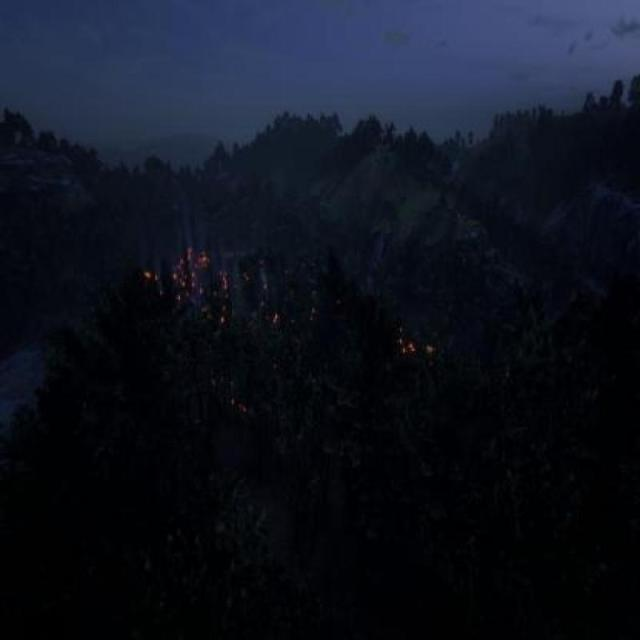Fire: (138, 248, 260, 336)
